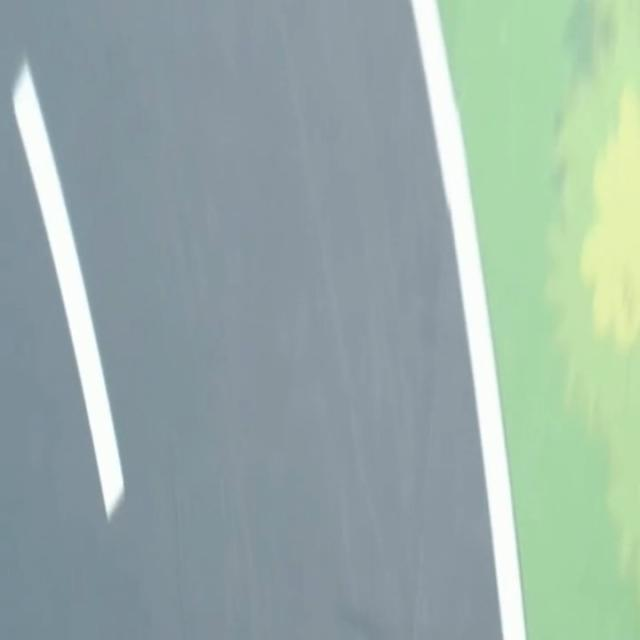center: (14, 60, 124, 519)
right: (411, 0, 525, 639)
